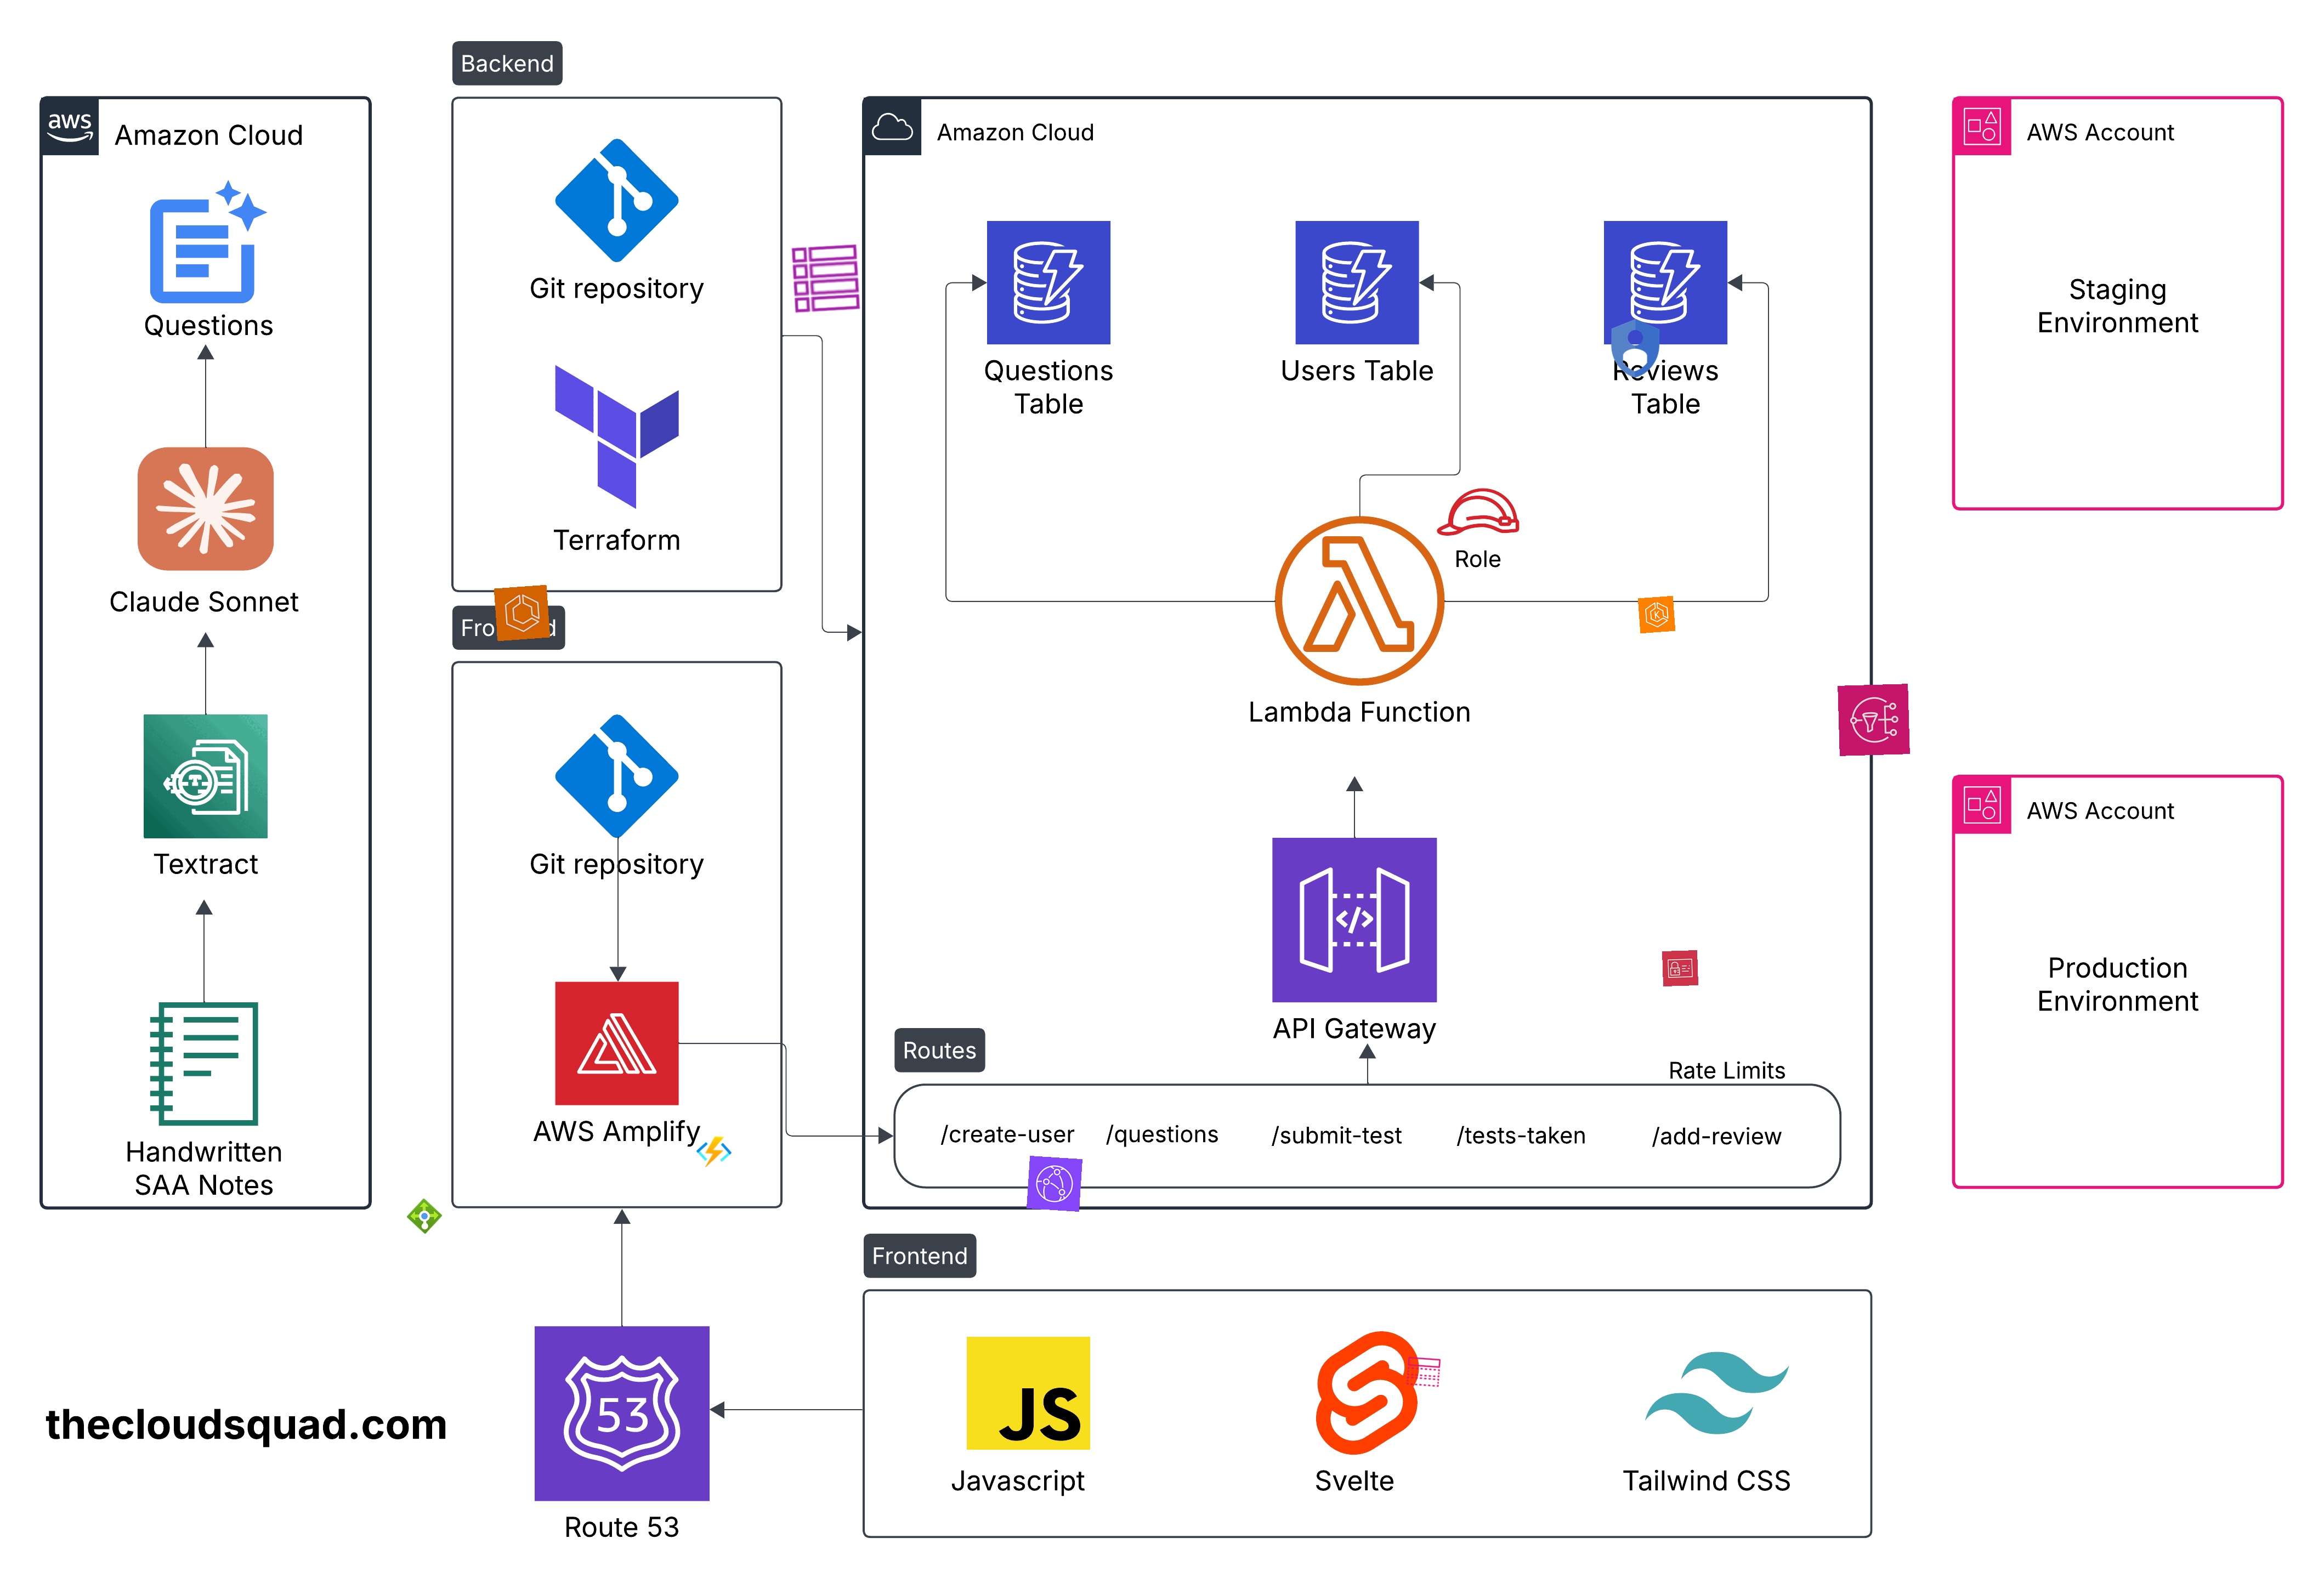aws_amazon_cloudfront: (1026, 1155, 1083, 1212)
aws_amazon_elastic_container_service: (493, 585, 551, 641)
aws_amazon_elastic_kubernetes_service: (1637, 595, 1676, 634)
aws_amazon_simple_notification_service: (1838, 683, 1910, 756)
aws_dynamodb_table: (789, 241, 863, 315)
aws_identity_and_access_management: (1662, 949, 1699, 986)
aws_simple_notification_service_topic: (1405, 1353, 1442, 1391)
azure_function_apps: (695, 1134, 732, 1171)
azure_load_balancers: (405, 1198, 444, 1235)
gcp_identity_and_access_management: (1600, 312, 1671, 384)
